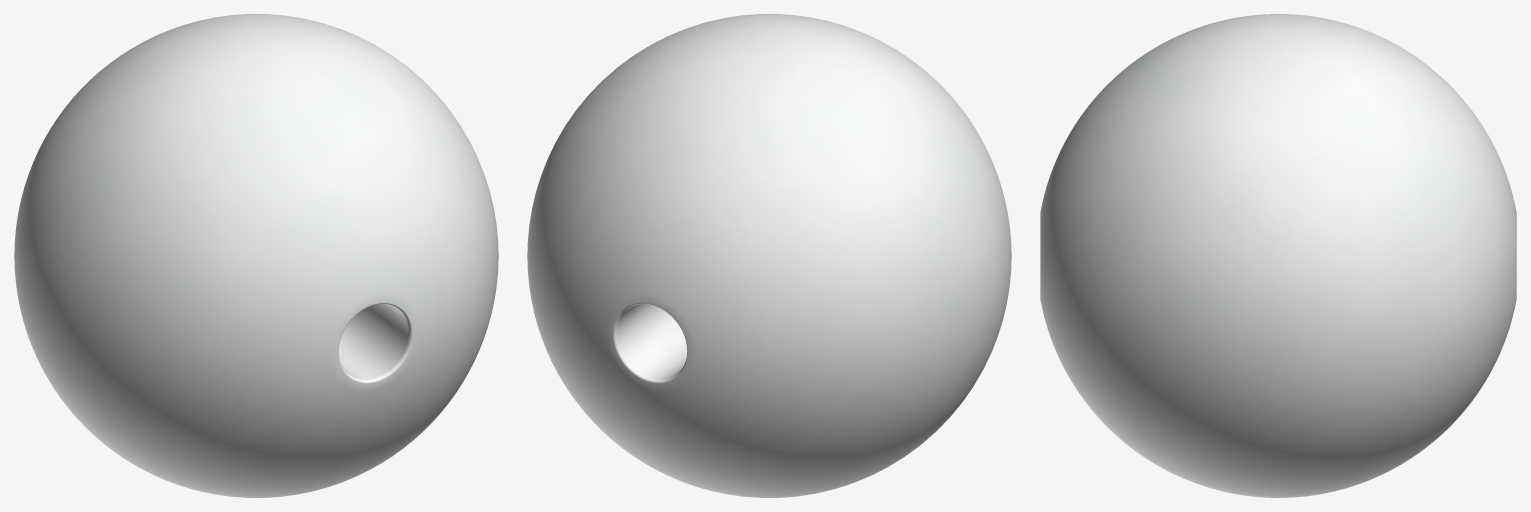
Rendered from clear-quartz-6mm.glb.
3 views of the same model, side by side, from view 1: azimuth 30°, elevation 25°; view 2: azimuth 150°, elevation 25°; view 3: azimuth 270°, elevation 25° (orthographic).
Visible parts, largest first — view 1: clear-quartz.001; view 2: clear-quartz.001; view 3: clear-quartz.001.
Part boxes in pixels (x1,y1,x2,y2): clear-quartz.001: (14, 14, 498, 497); clear-quartz.001: (527, 14, 1011, 497); clear-quartz.001: (1040, 14, 1516, 497).
Bounding box in the file's own units: 0.006 × 0.006 × 0.0059.
Materials: 2 (1 with a texture image).
